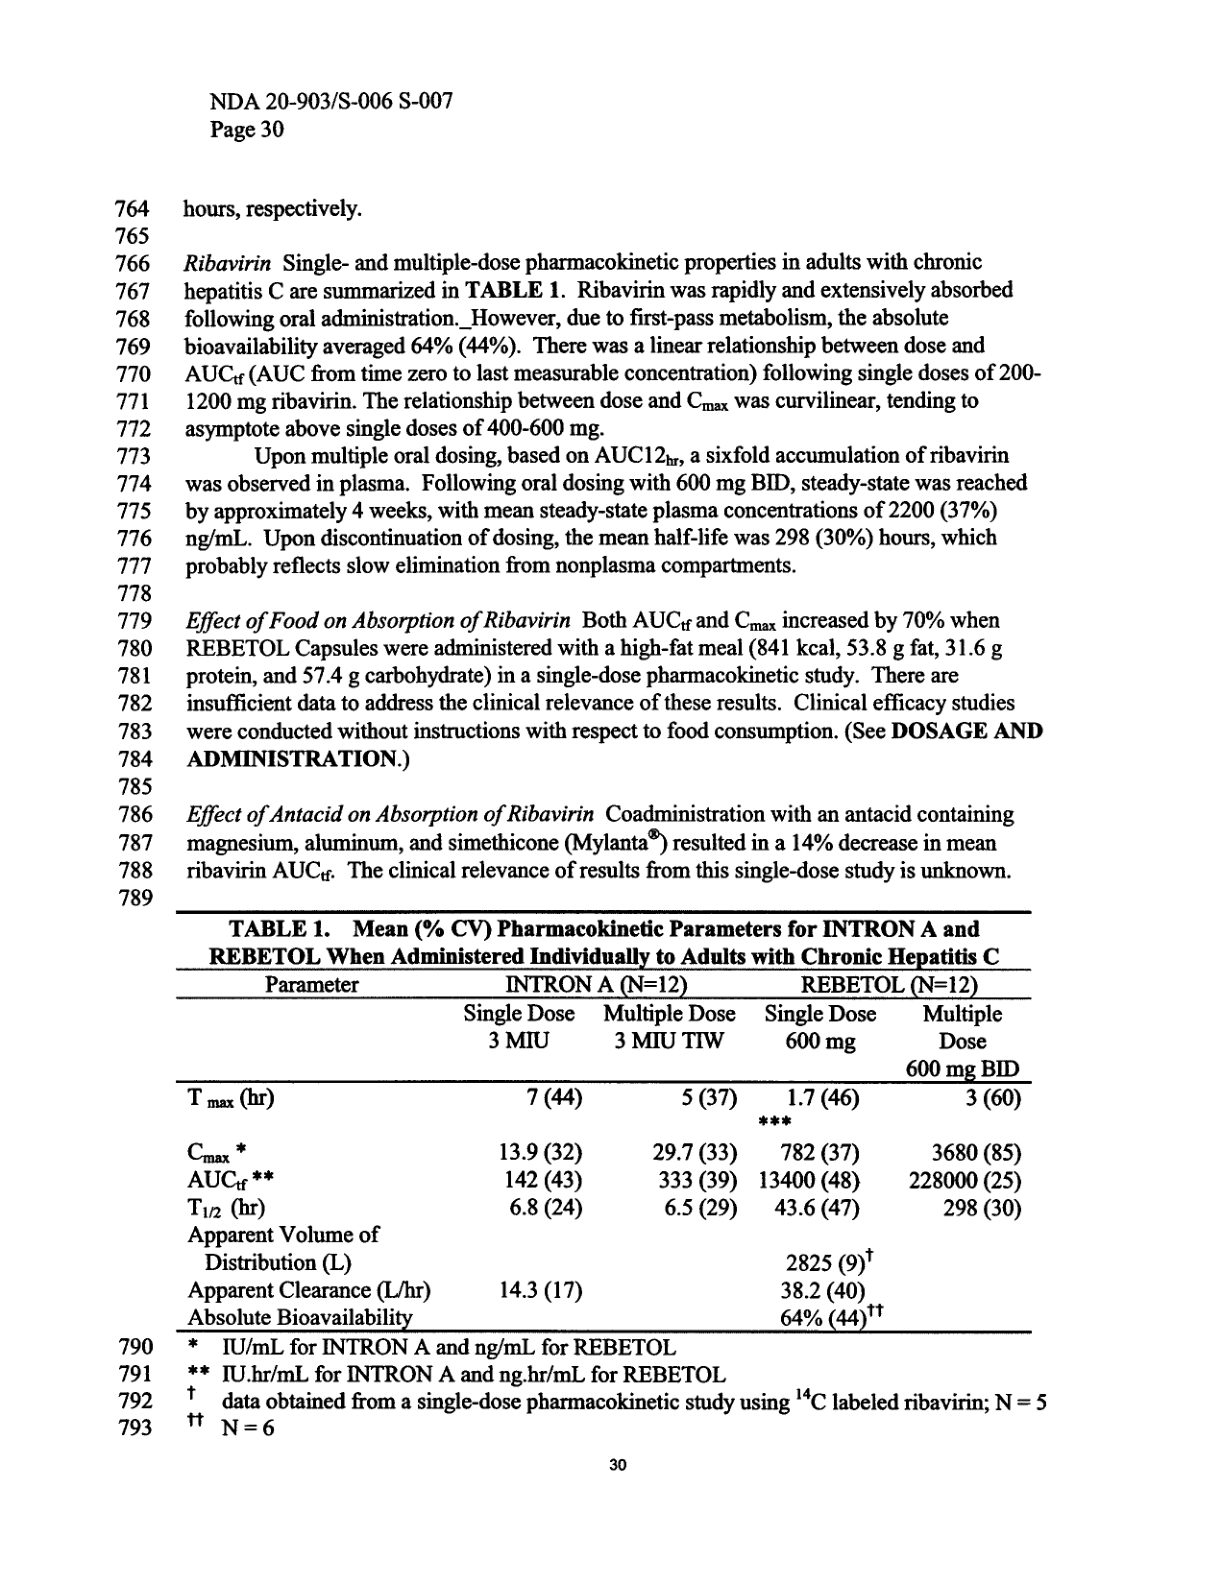partial_lined_merged_cells: (175, 965, 1036, 1338)
